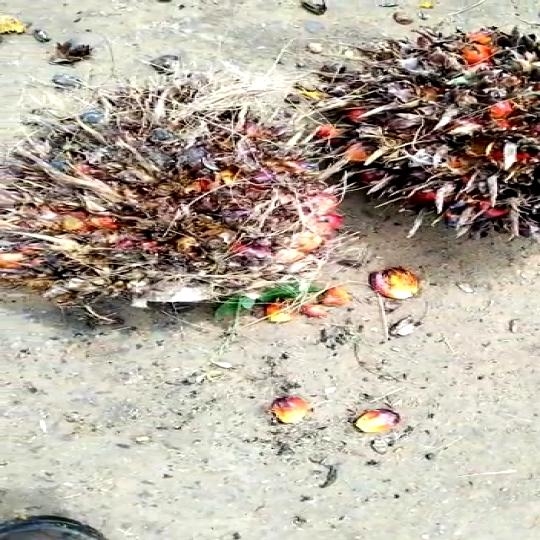terlalu masak: (0, 90, 338, 325), (296, 30, 540, 237)
